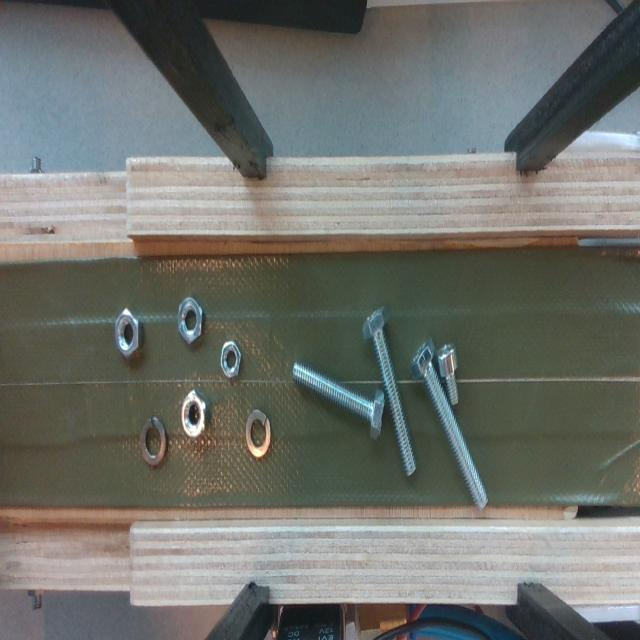Bolt: (411, 340, 488, 508), (362, 307, 416, 476), (292, 362, 385, 439), (438, 345, 459, 404)
Nut: (178, 297, 205, 344), (181, 390, 205, 438), (115, 309, 139, 356), (220, 340, 241, 378)
washer: (140, 416, 166, 466), (245, 409, 271, 458)
